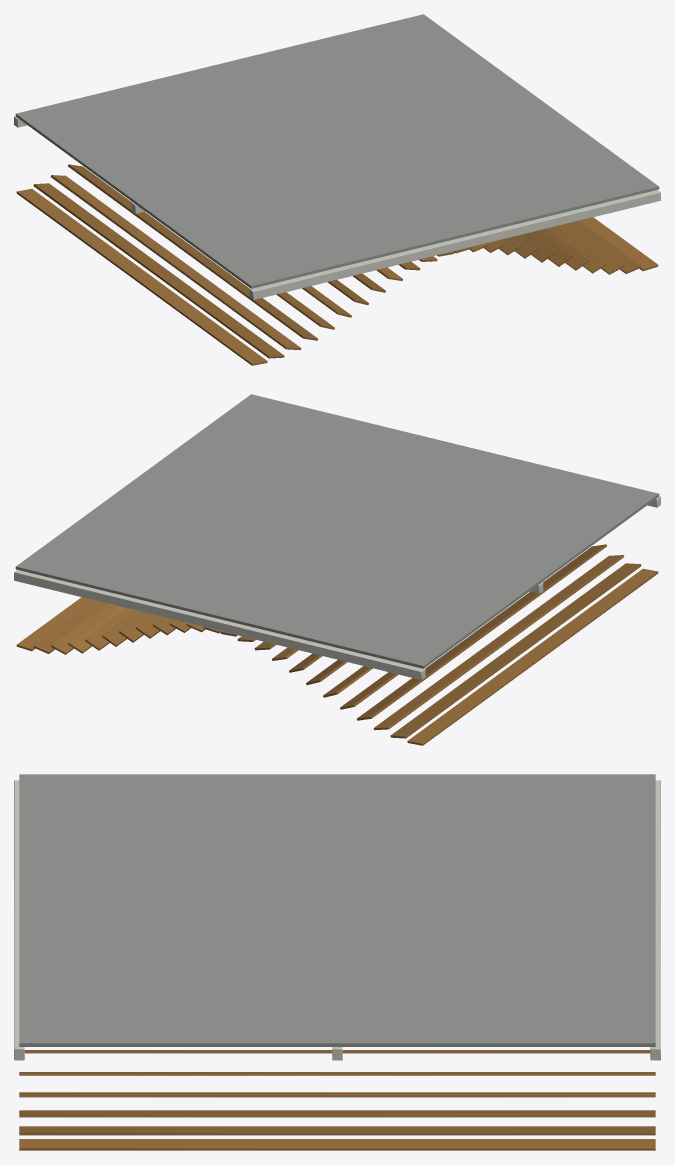
The model's file is ap-ceiling-wave-bay.glb.
3 views of the same model, one above another, from view 1: azimuth 30°, elevation 25°; view 2: azimuth 150°, elevation 25°; view 3: azimuth 270°, elevation 25° (orthographic). The views are drawn at different scales.
Visible parts, largest first — view 1: panel__paint, slats__wood; view 2: panel__paint, slats__wood; view 3: panel__paint, slats__wood.
Boxes of the visible parts, x1=… form: panel__paint: x1=14, y1=14, x2=660, y2=299; slats__wood: x1=16, y1=164, x2=658, y2=365; panel__paint: x1=14, y1=394, x2=660, y2=679; slats__wood: x1=16, y1=544, x2=658, y2=745; panel__paint: x1=14, y1=774, x2=660, y2=1060; slats__wood: x1=19, y1=1050, x2=655, y2=1150.
Size of the model in its own units: 6 by 1.14 by 6.1.
